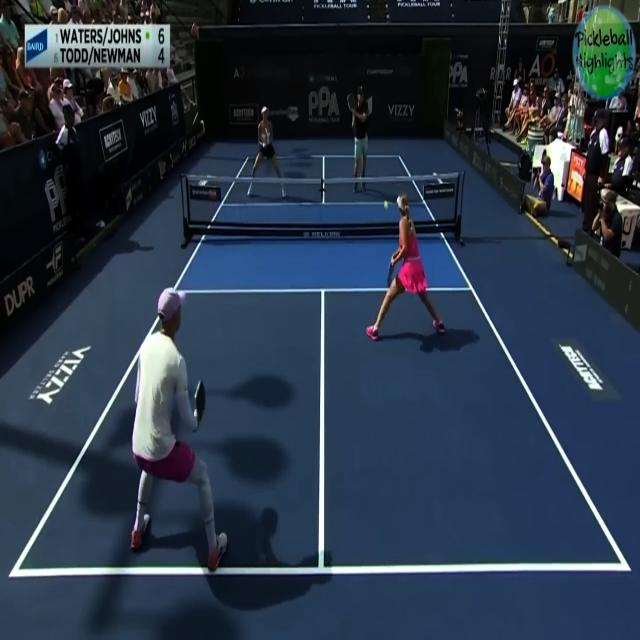Pickleball: (382, 197, 388, 211)
